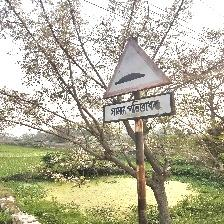Speed-breaker: (102, 37, 174, 125)
